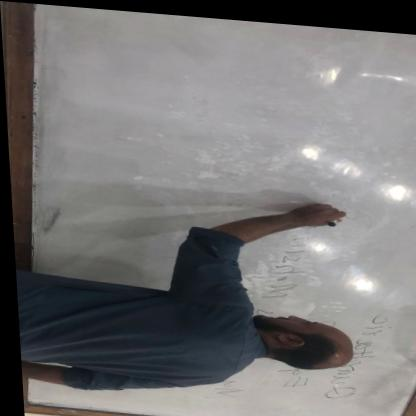Handwritten text: (297, 282, 400, 412), (230, 200, 327, 323), (185, 365, 251, 405), (261, 356, 313, 388)
Lecturer: (11, 229, 358, 408)
Whiteboard: (9, 2, 415, 416)
